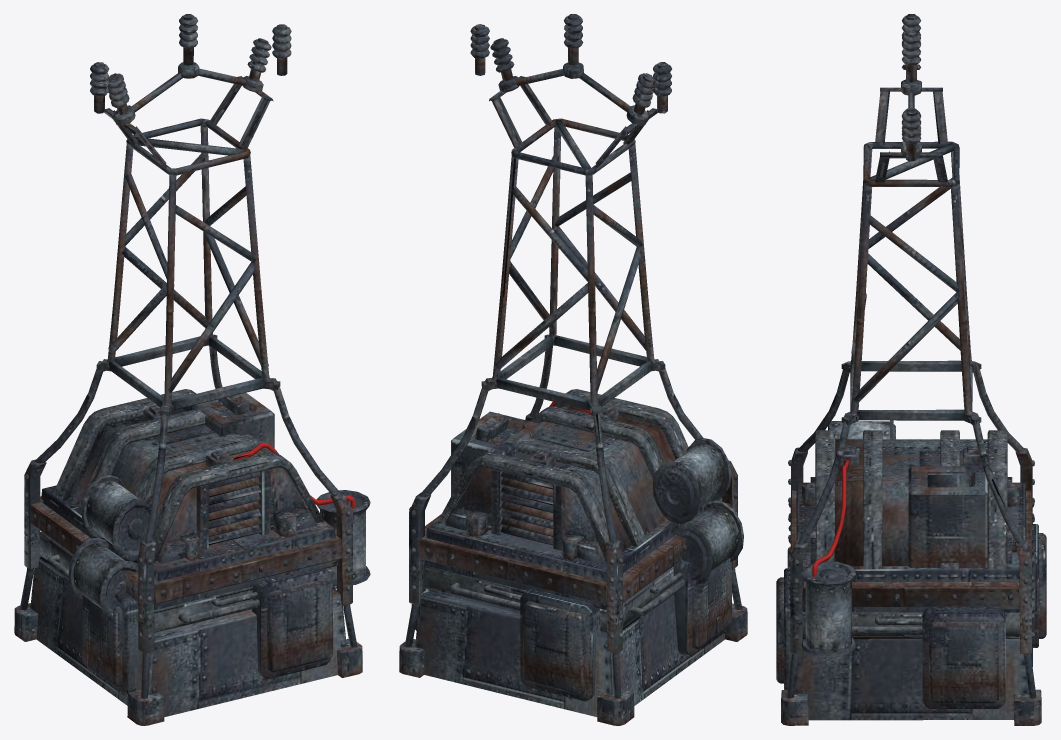
Rendered from substation.glb.
3 views of the same model, side by side, from view 1: azimuth 30°, elevation 25°; view 2: azimuth 150°, elevation 25°; view 3: azimuth 270°, elevation 25° (orthographic).
Parts seen in each view (by area): view 1: body; view 2: body; view 3: body.
Boxes of the visible parts, bbox=[...] form: body: bbox=[14, 14, 370, 725]; body: bbox=[399, 14, 747, 725]; body: bbox=[776, 14, 1046, 725].
Size of the model in its own units: 1.97 by 4.48 by 1.72.
Materials: 1 (1 with a texture image).
